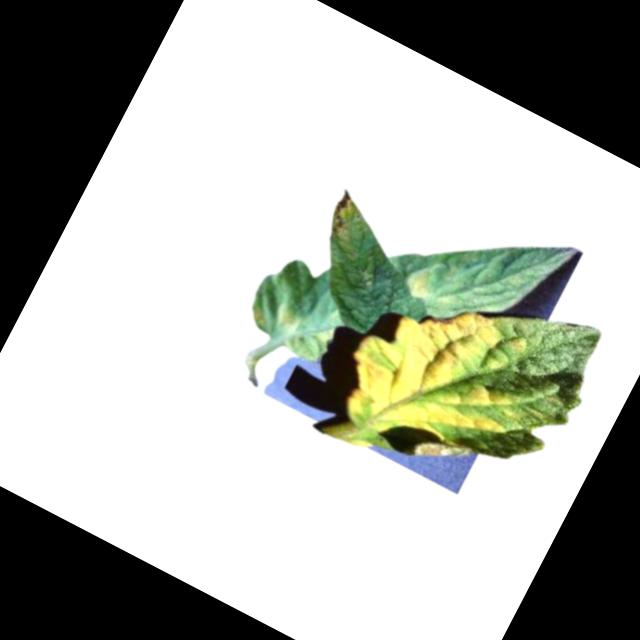Leaf_Mold: (324, 271, 579, 504), (318, 187, 377, 254), (401, 264, 462, 314)
